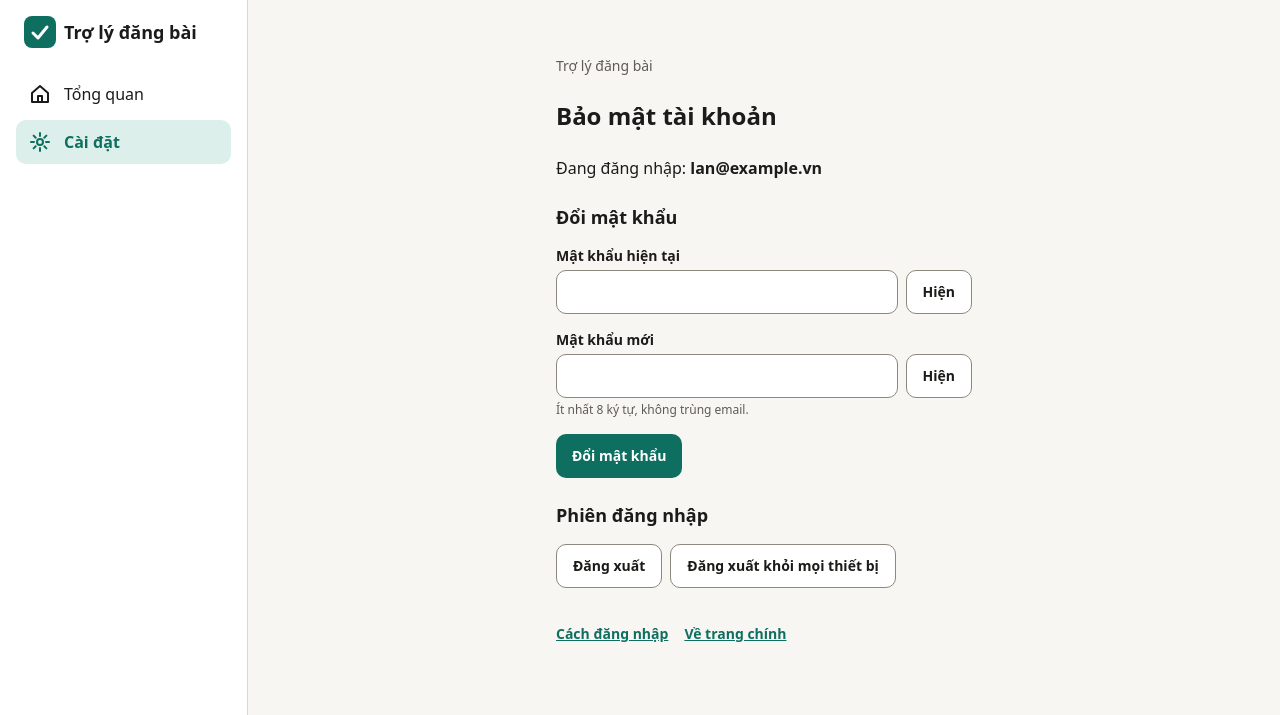
it: SecuritySettingsPage › đổi mật khẩu: sai mật khẩu hiện tại → lỗi ở ô; đúng → thông báo thành công
The width and height of the screenshot is (1280, 715).
In the password field labelled "Mật khẩu hiện tại": (727, 292) [556, 270, 898, 314], type "sai"
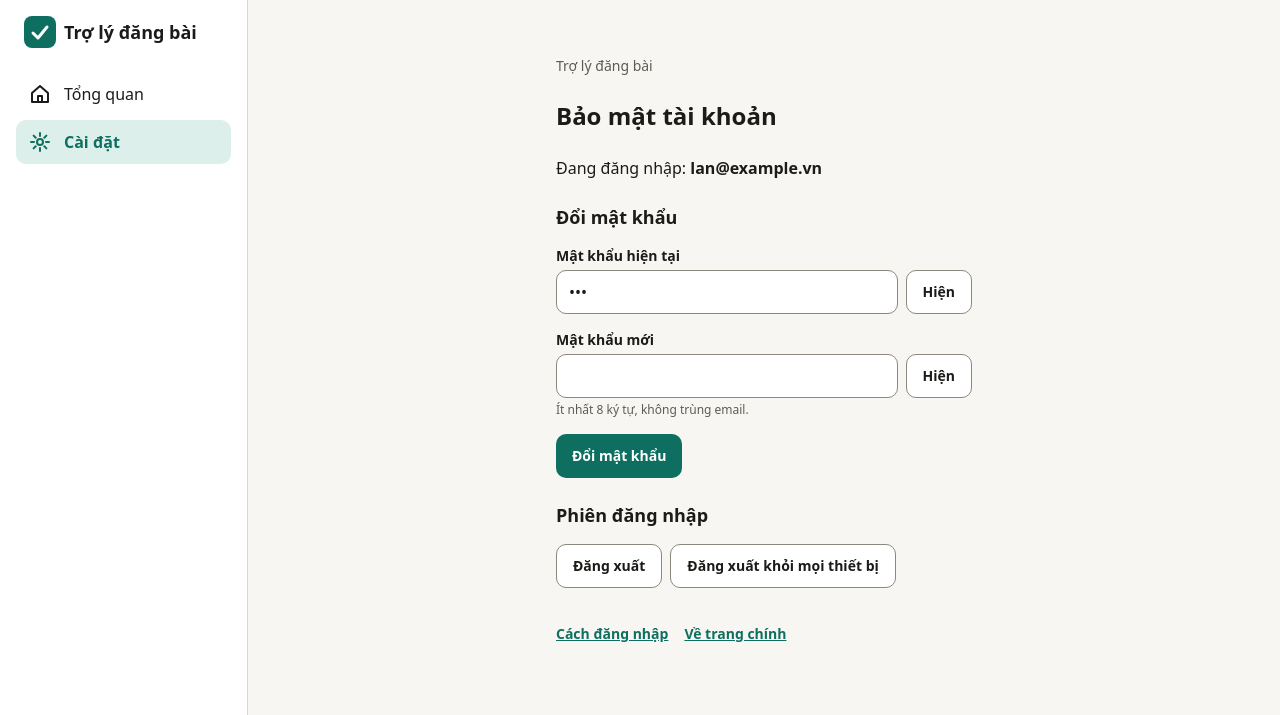
In the password field labelled "Mật khẩu mới": (727, 376) [556, 354, 898, 398], type "Mat-khau-moi-99"
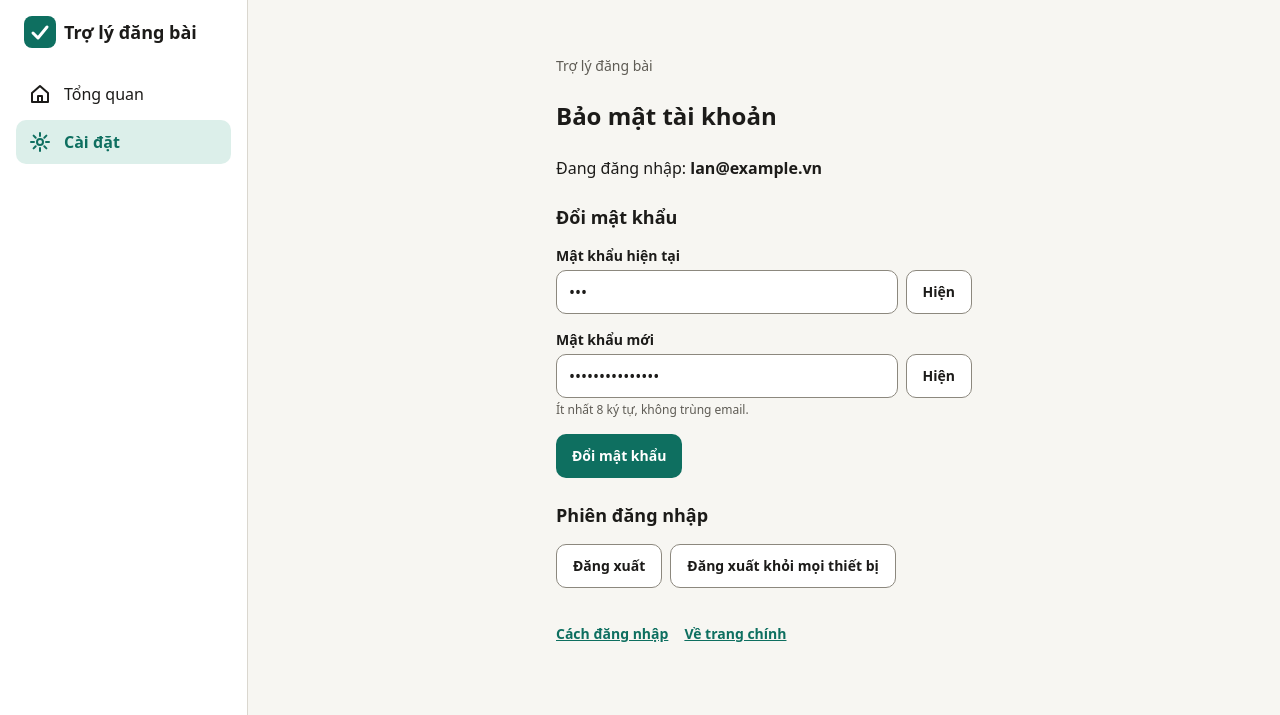
Click the button "Đổi mật khẩu": (619, 456) [556, 434, 682, 478]
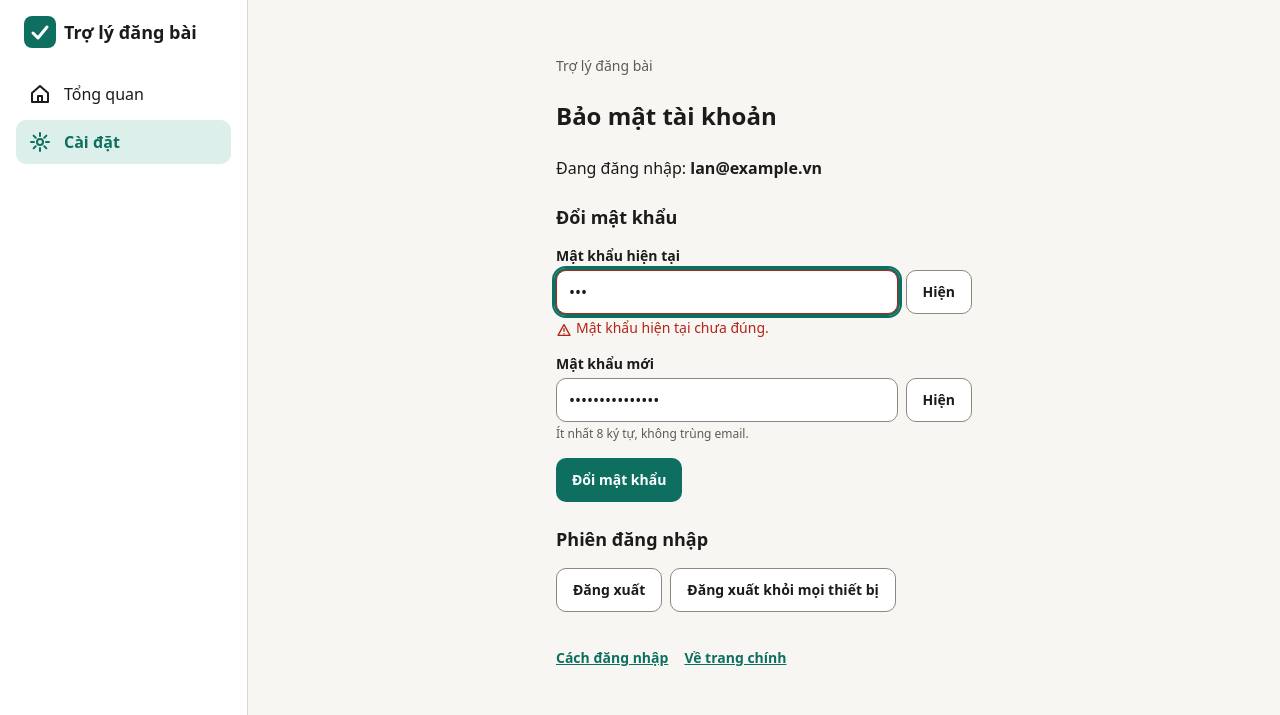
In the password field labelled "Mật khẩu hiện tại": (727, 292) [556, 270, 898, 314], type "dung-roi"
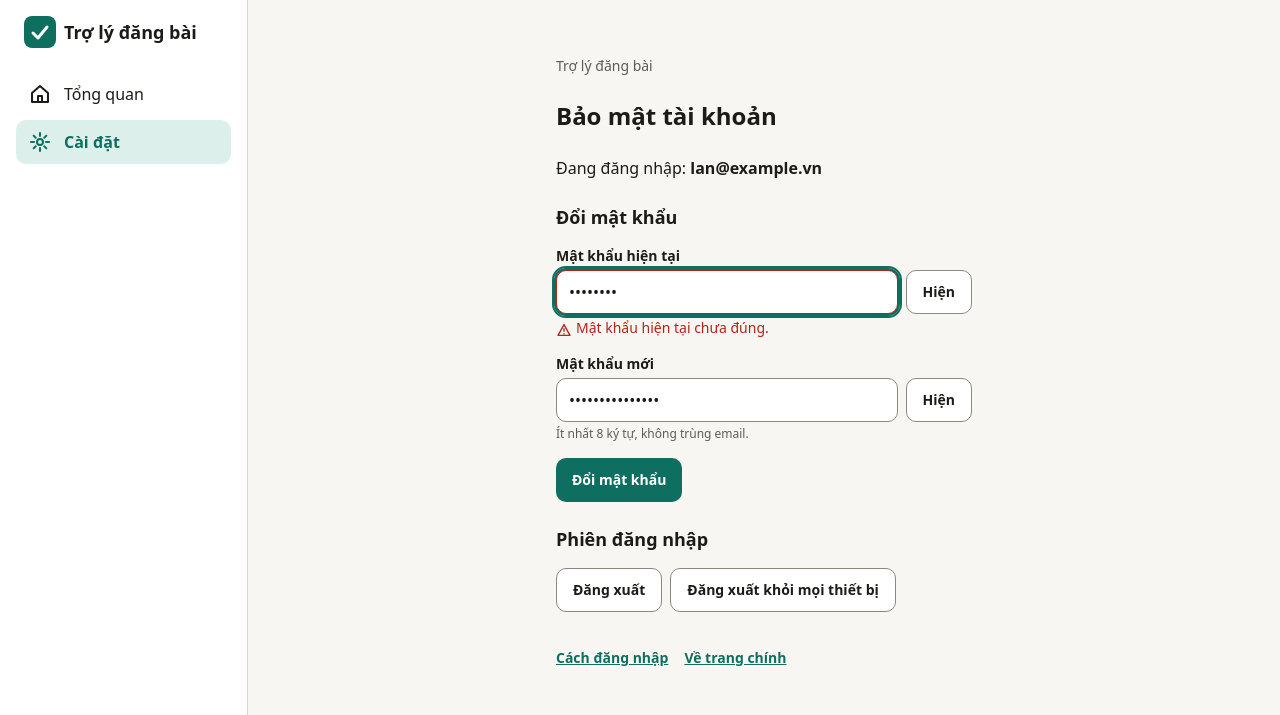
Click the button "Đổi mật khẩu": (619, 480) [556, 458, 682, 502]
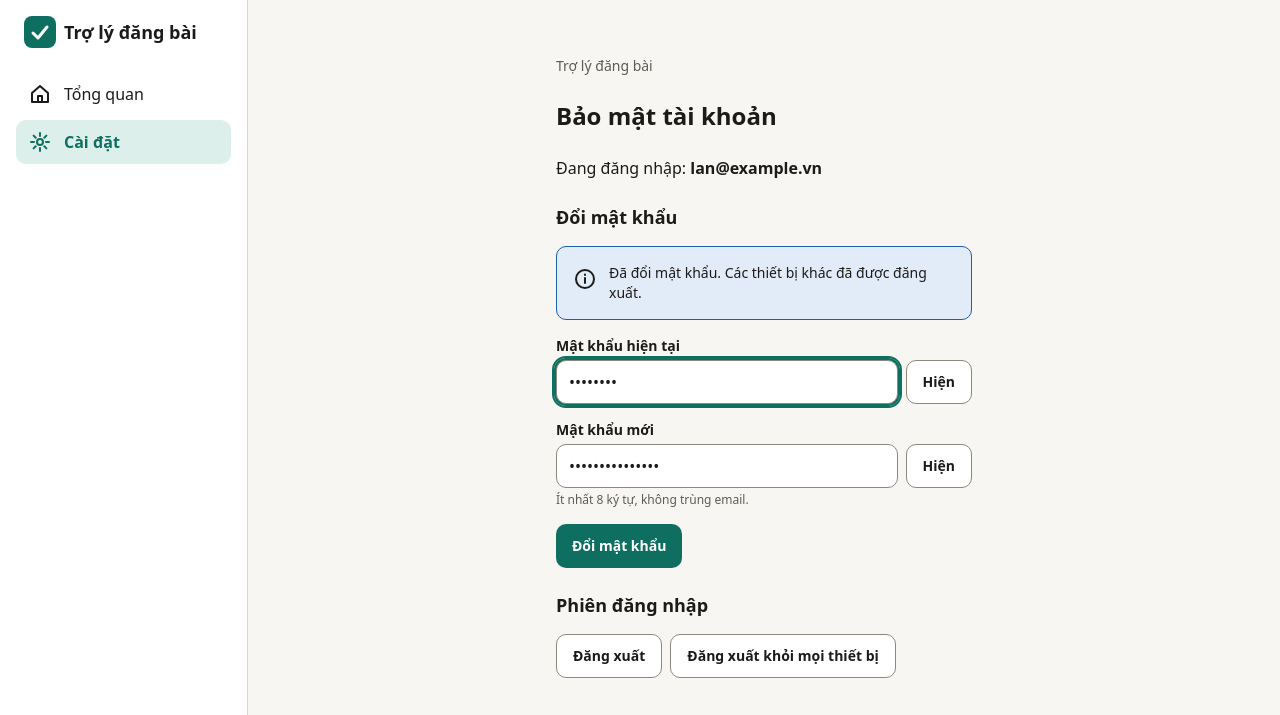
expect the text "Đã đổi mật khẩu. Các thiết bị khác đã được đăng xuất." is shown: met, box [609, 263, 955, 303]
